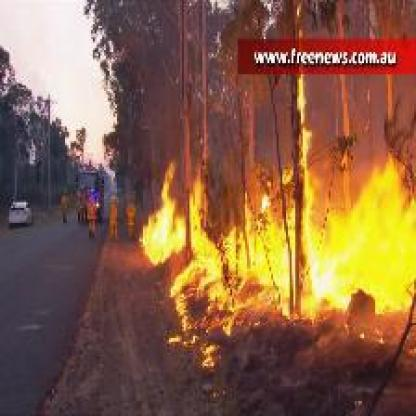fire: (137, 100, 413, 325)
